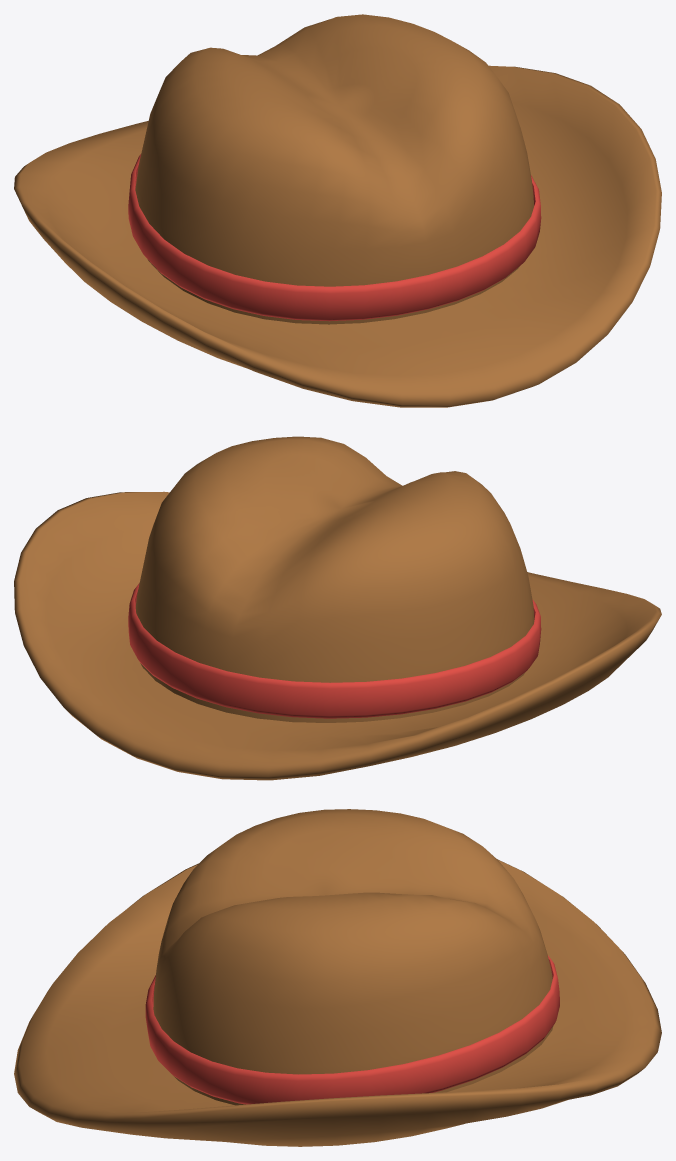
File: hat_cowboy.glb
3 views of the same model, one above another, from view 1: azimuth 30°, elevation 25°; view 2: azimuth 150°, elevation 25°; view 3: azimuth 270°, elevation 25° (orthographic).
Visible parts, largest first — view 1: HatCowboy; view 2: HatCowboy; view 3: HatCowboy.
Part boxes in pixels (x1,y1,x2,y2): HatCowboy: [14, 14, 661, 407]; HatCowboy: [14, 436, 661, 780]; HatCowboy: [14, 809, 661, 1146].
Size of the model in its own units: 0.848 by 0.3155 by 0.8459.
